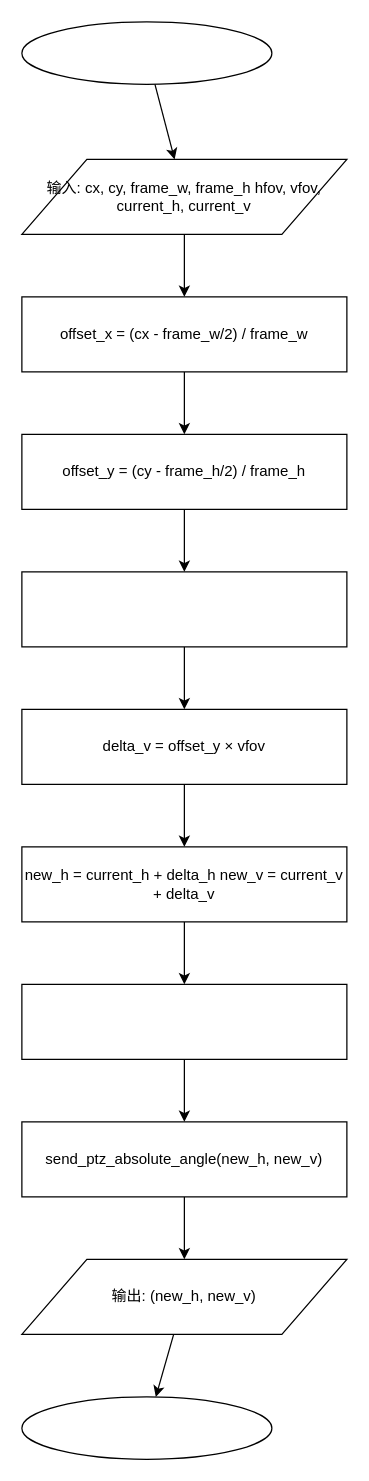
The diagram is 369 pixels wide and 1481 high, and some of its shapes have lost their labels. The box of each missing label's shape, as (x1, y1, x2, y2) in pixels:
delta_h = offset_x × hfov: (21, 571, 347, 647)
new_h = clamp(new_h, h_min, h_max) new_v = clamp(new_v, v_min, v_max): (21, 983, 347, 1059)
开始 / 火焰确认触发: (21, 21, 272, 84)
结束 / 进入闭环下一帧: (21, 1396, 272, 1459)
